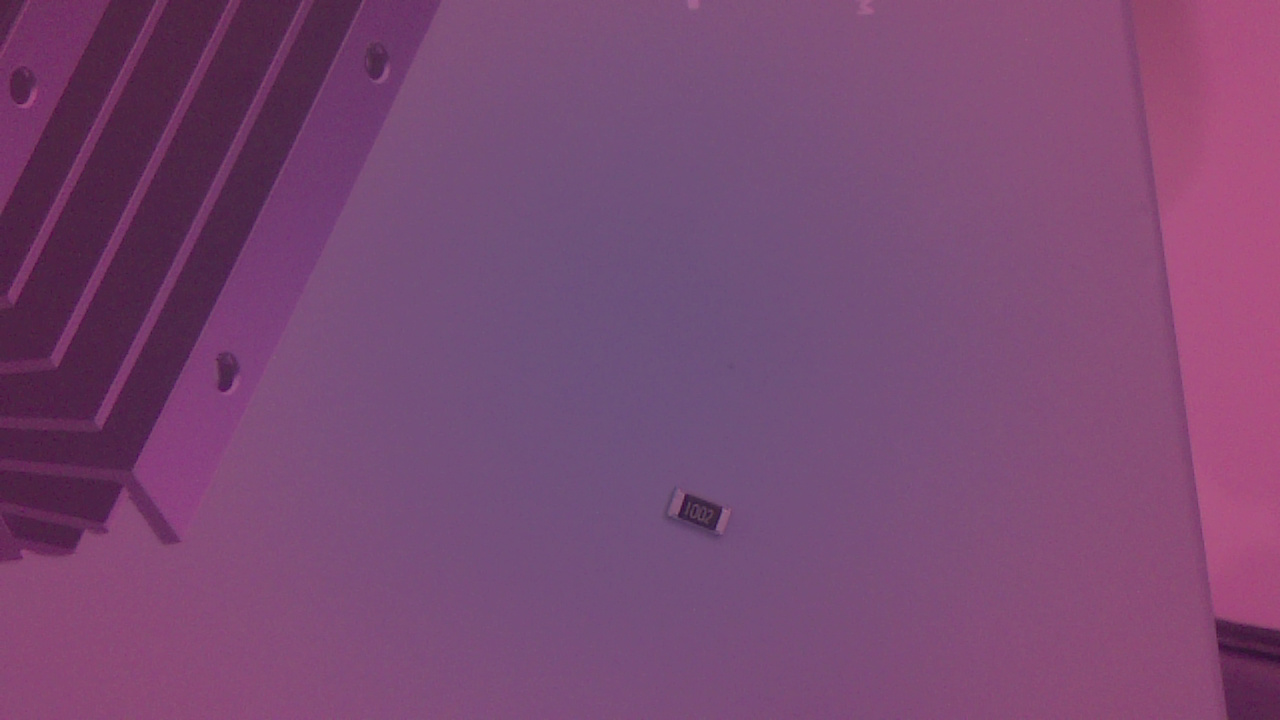Resistor: (668, 485, 741, 551)
